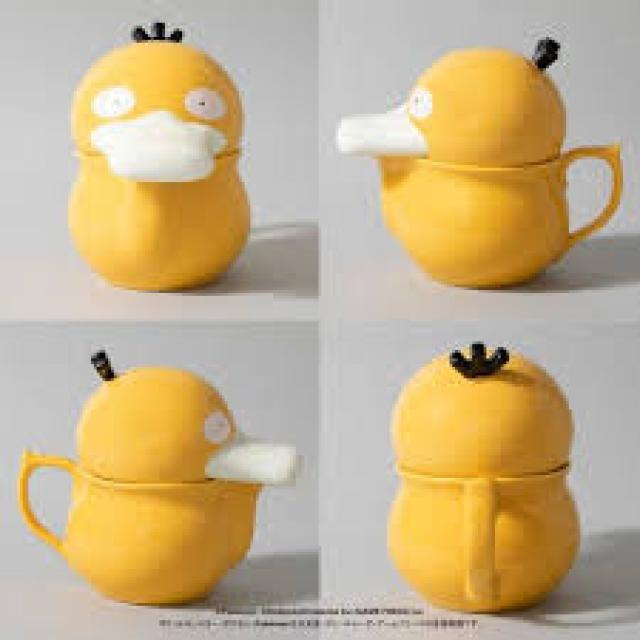Psyduck: (363, 50, 566, 290), (67, 36, 247, 294), (75, 368, 270, 604)
